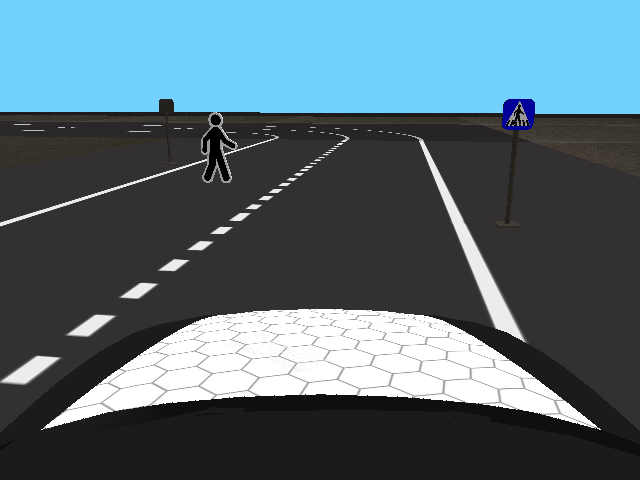pedestrian: (200, 112, 237, 184)
pedestrian_cross: (501, 98, 536, 131)
